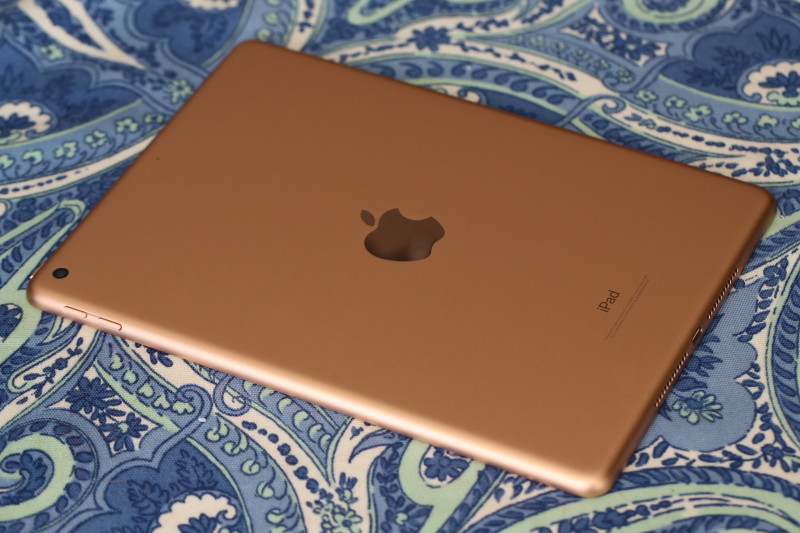apple: (338, 187, 471, 300)
